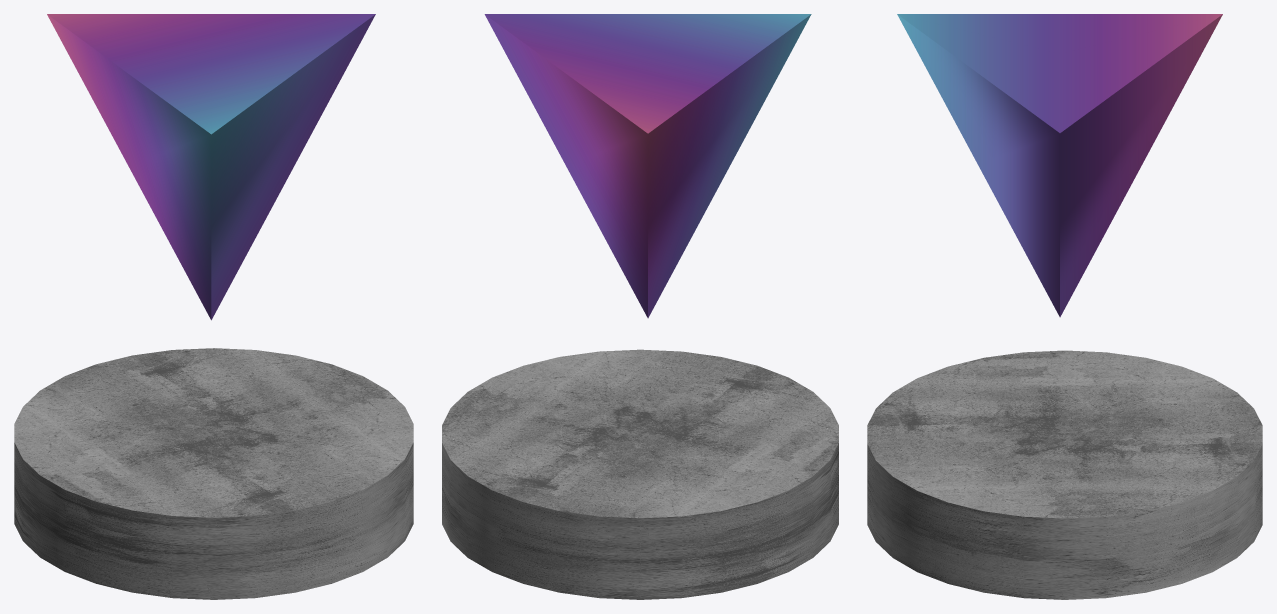
Rendered from pyr-violet.glb.
3 views of the same model, side by side, from view 1: azimuth 30°, elevation 25°; view 2: azimuth 150°, elevation 25°; view 3: azimuth 270°, elevation 25° (orthographic).
Visible parts, largest first — view 1: 023_Cylinder_-_baked_4, 024_Cone_1; view 2: 023_Cylinder_-_baked_4, 024_Cone_1; view 3: 023_Cylinder_-_baked_4, 024_Cone_1.
Boxes of the visible parts, left/top/right/bottom form: 023_Cylinder_-_baked_4: left=14, top=348, right=413, bottom=599; 024_Cone_1: left=47, top=14, right=375, bottom=320; 023_Cylinder_-_baked_4: left=442, top=349, right=838, bottom=599; 024_Cone_1: left=484, top=14, right=811, bottom=318; 023_Cylinder_-_baked_4: left=867, top=350, right=1262, bottom=599; 024_Cone_1: left=897, top=14, right=1222, bottom=317.
Size of the model in its own units: 18.41 by 23.47 by 18.31.
2 materials, 2 textured.
